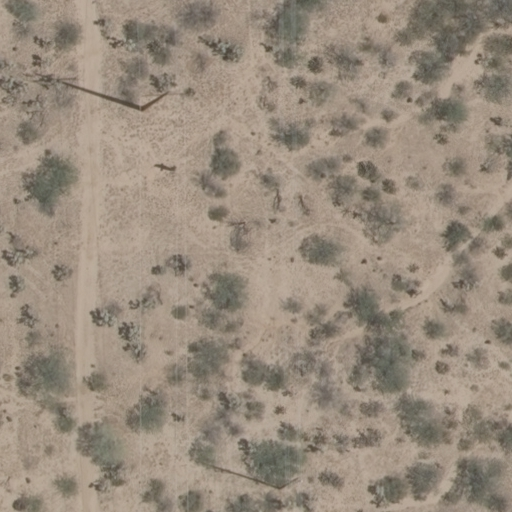DT: (130, 82, 188, 114), (269, 466, 317, 495)
